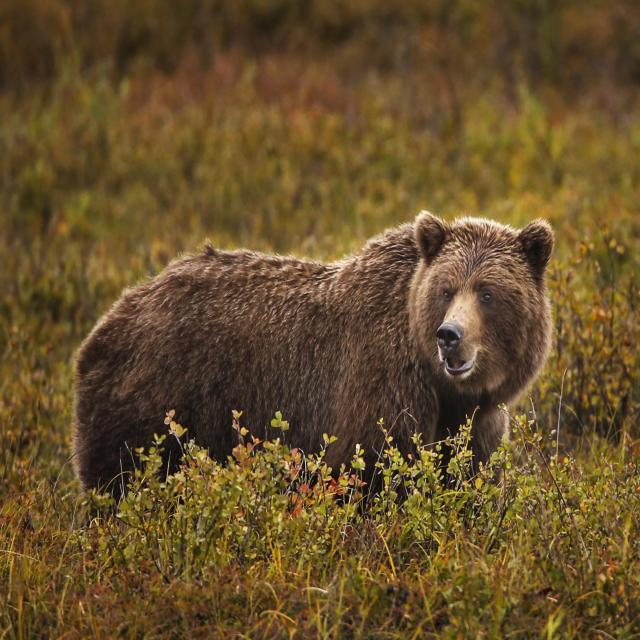Bear: (71, 213, 556, 504)
